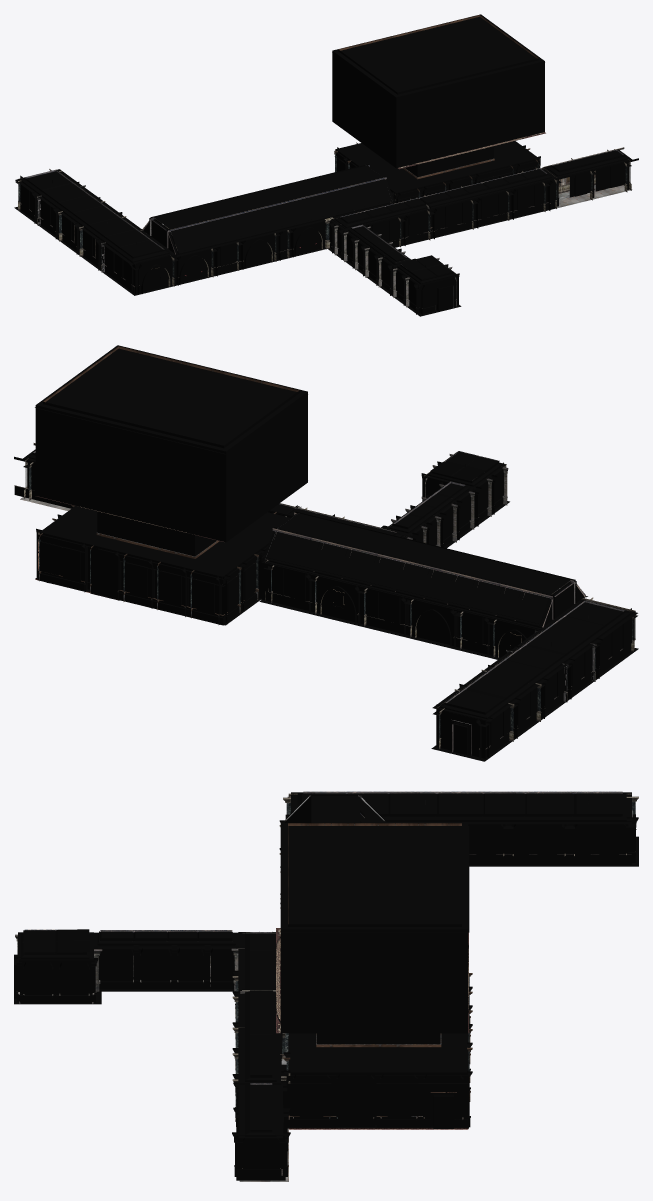
Rendered from castle-dining-room.glb.
3 views of the same model, one above another, from view 1: azimuth 30°, elevation 25°; view 2: azimuth 150°, elevation 25°; view 3: azimuth 270°, elevation 25° (orthographic). The views are drawn at different scales.
Visible parts, largest first — view 1: Material2 (×2), Material3 (×7); view 2: Material2 (×2), Material3 (×6); view 3: Material2 (×2), Material3 (×6).
Boxes of the visible parts, x1,y1,x2,y2 form: Material2 (×2): (15, 14, 638, 314); Material3 (×7): (14, 14, 632, 316); Material2 (×2): (14, 345, 637, 758); Material3 (×6): (14, 346, 638, 761); Material2 (×2): (14, 792, 638, 1180); Material3 (×6): (14, 791, 638, 1175).
Size of the model in its own units: 2004 by 544 by 1506.
69 materials, 69 textured.
